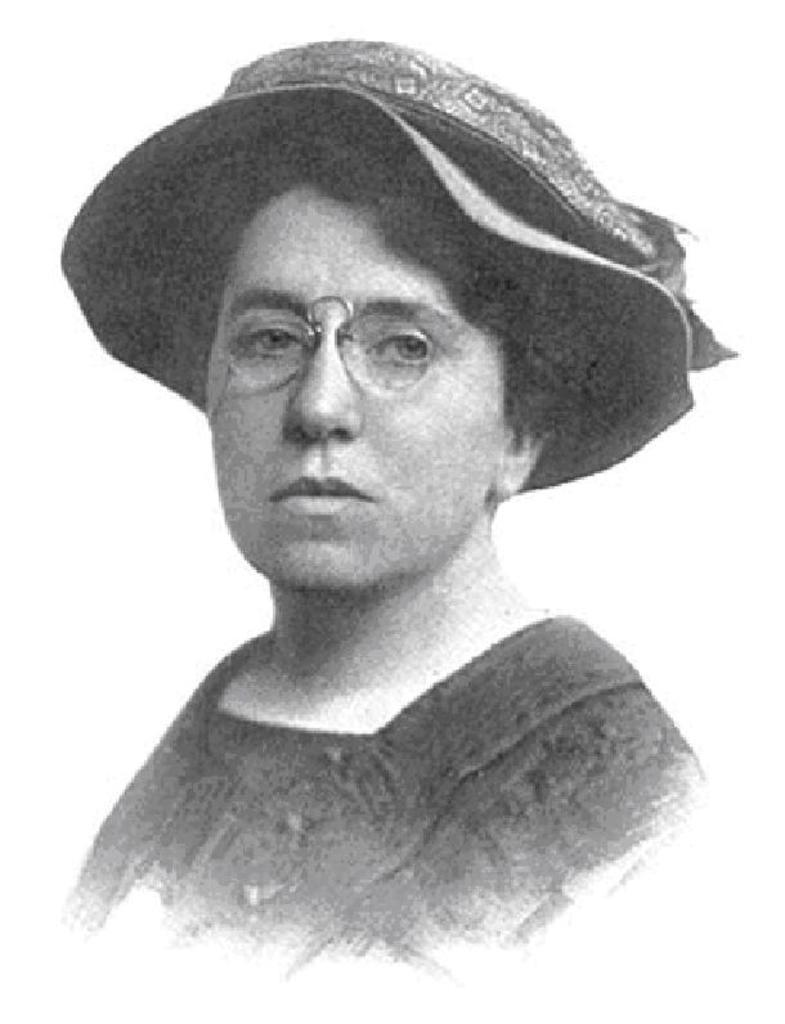Hat: (56, 42, 743, 497)
